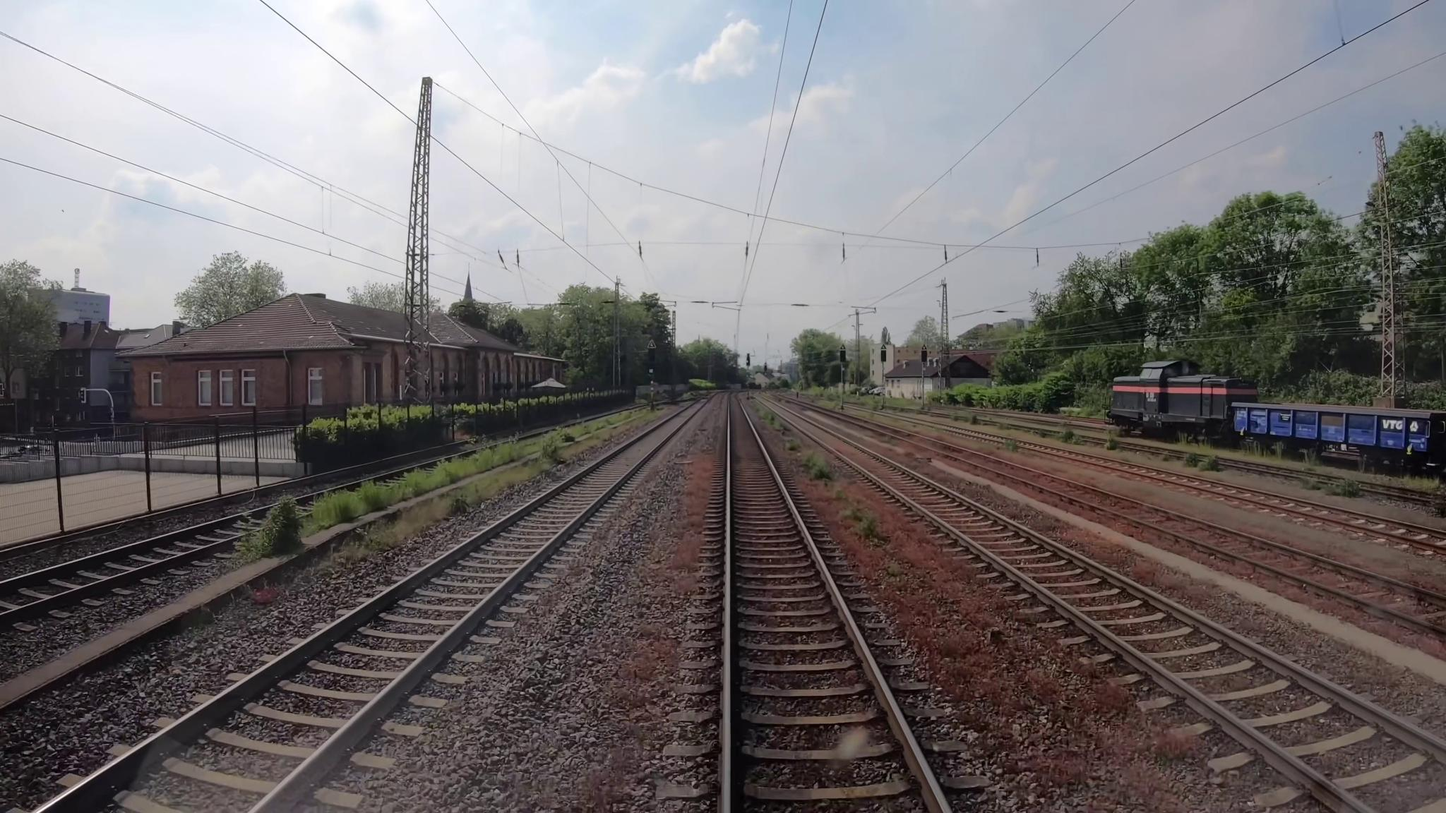Plant: (236, 406, 658, 568), (322, 413, 665, 553), (752, 405, 892, 548), (1298, 470, 1371, 498), (1155, 452, 1225, 474), (1055, 422, 1084, 446), (1105, 437, 1122, 455), (969, 413, 978, 425)
